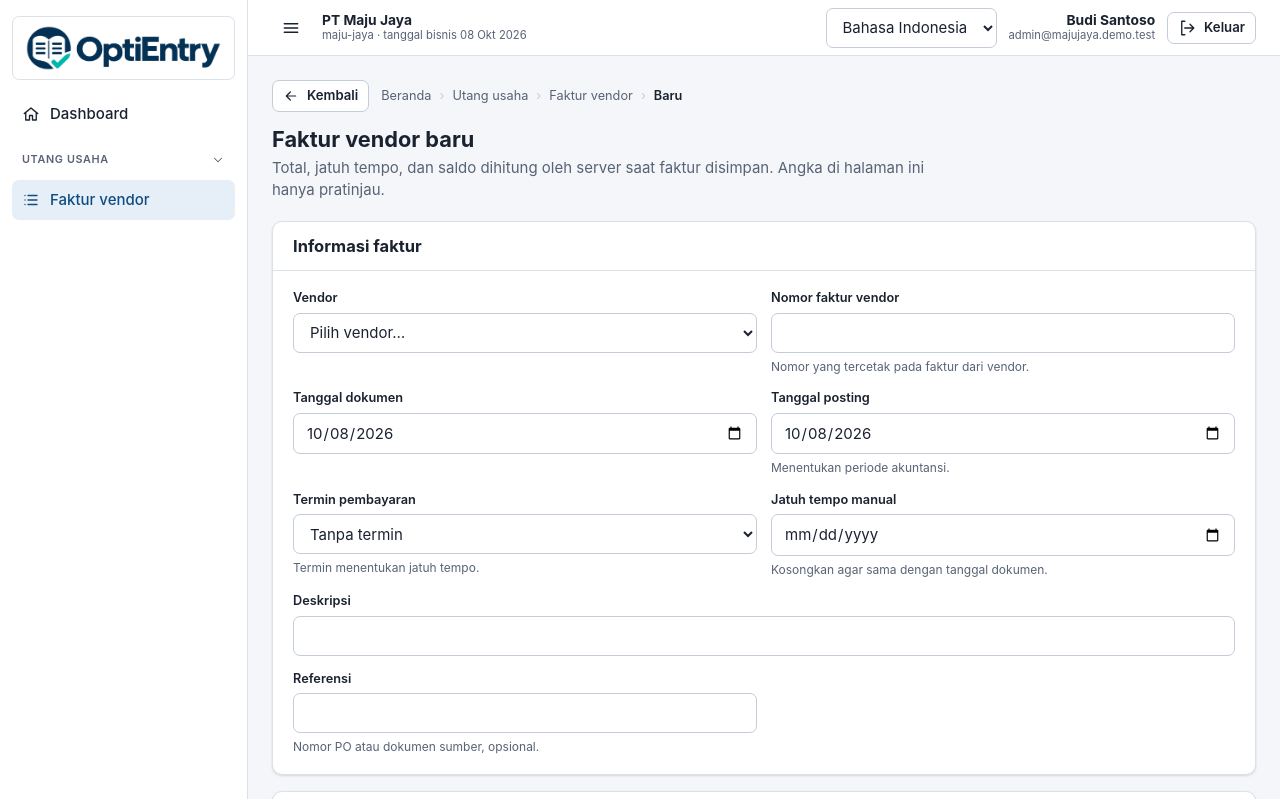
Test case: vendor invoice editor and currencies › keeps the payload of a functional invoice unchanged when the tenant has no multi-currency module
The image size is (1280, 799).
Expected: the heading "Faktur vendor baru" is shown, [272, 126, 474, 152]
Select "V1 · PT Sumber Makmur" in the dropdown labelled "Vendor" at (525, 333), box [293, 313, 757, 353]
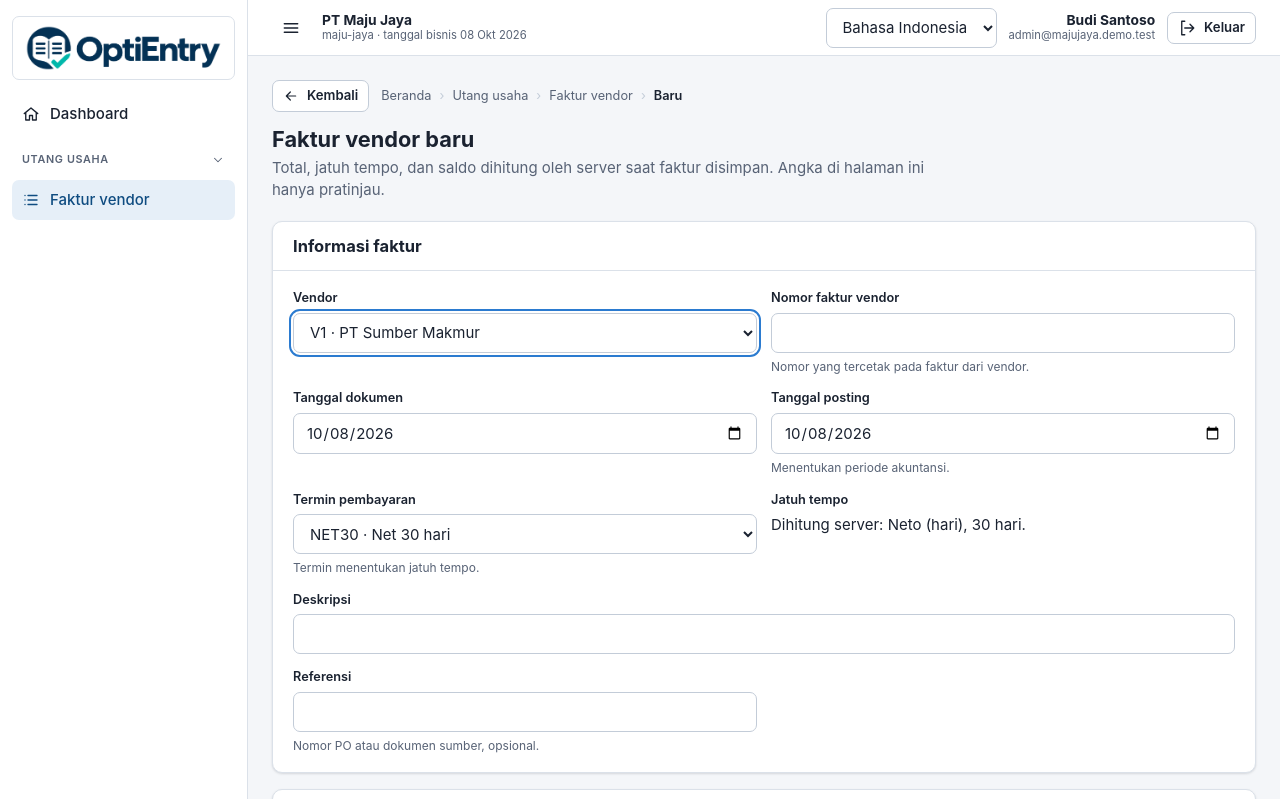
Type "FP-200" into the field labelled "Nomor faktur vendor" at (1003, 333), box [771, 313, 1235, 353]
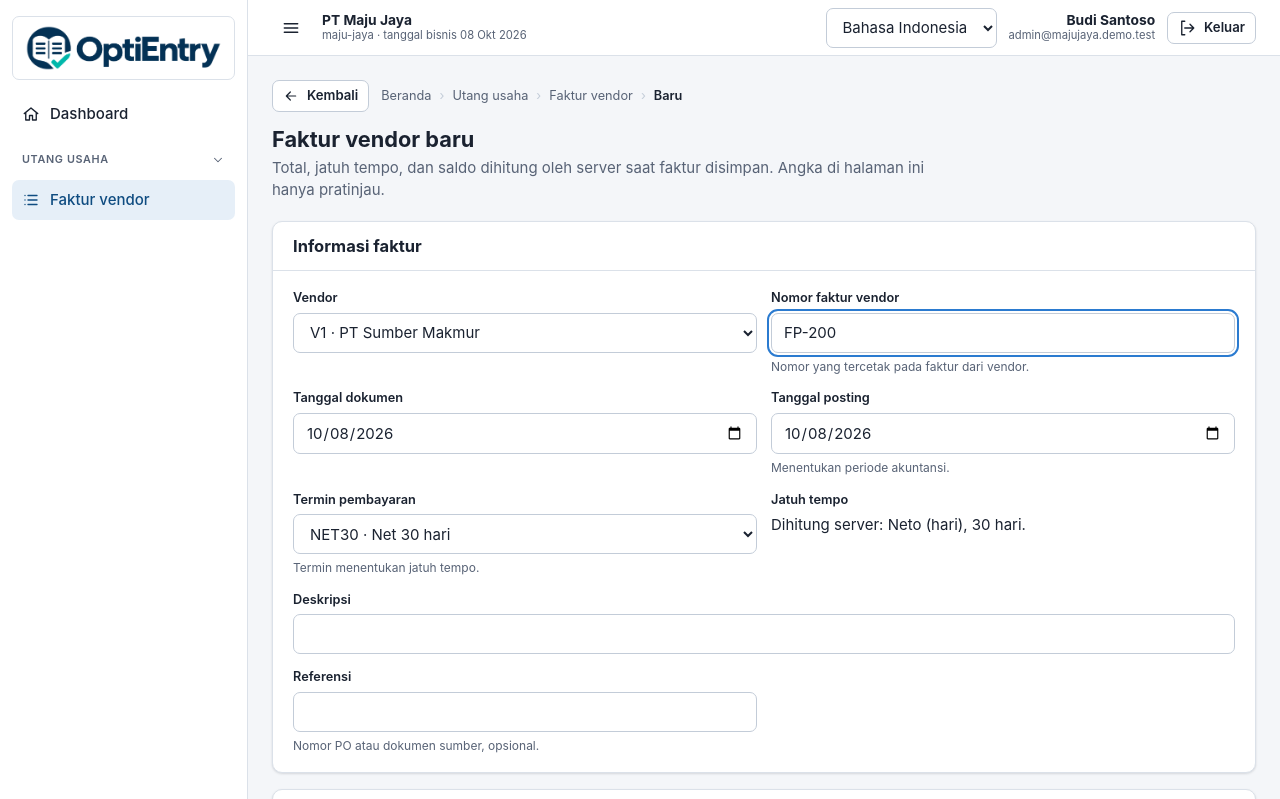
Type "Jasa konsultasi" into the field labelled "Deskripsi" at (764, 634), box [293, 614, 1235, 654]
(page scrolled)
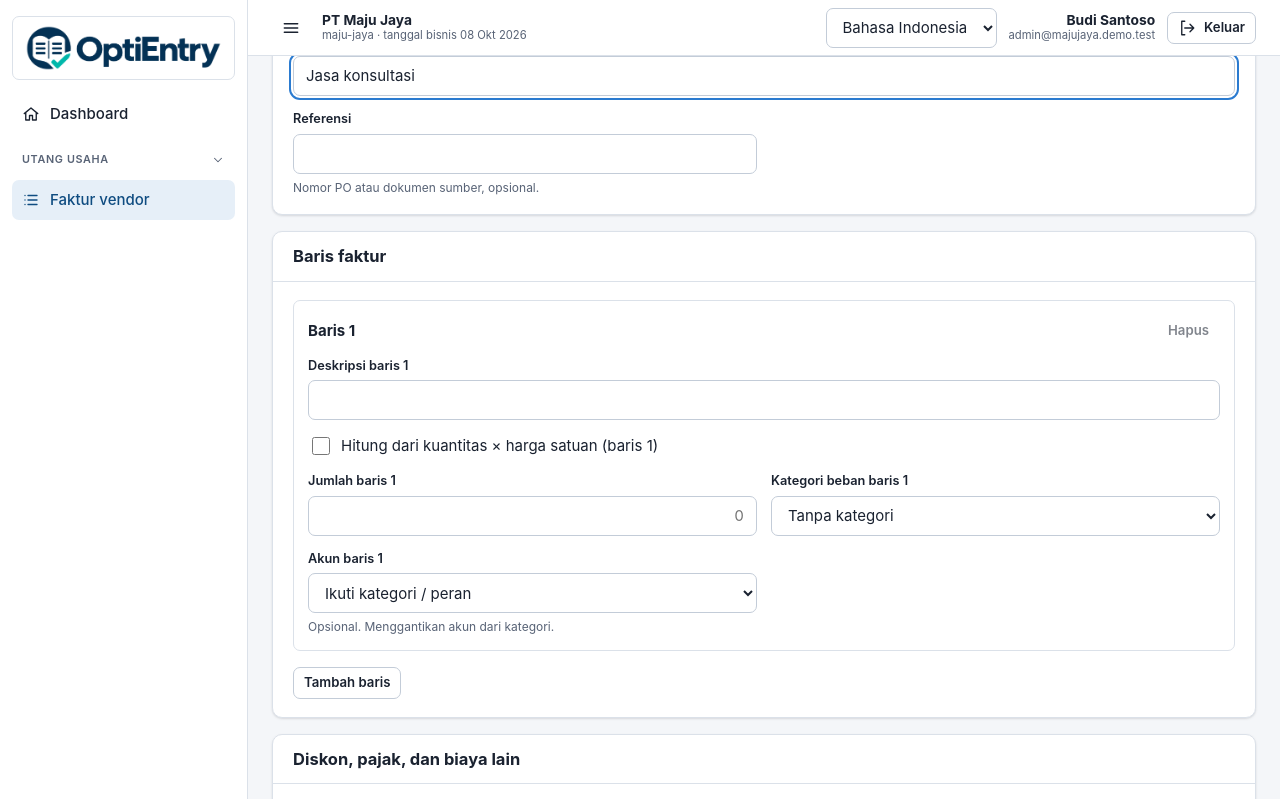
Type "Konsultasi" into the field labelled "Deskripsi baris 1" at (764, 400), box [308, 380, 1220, 420]
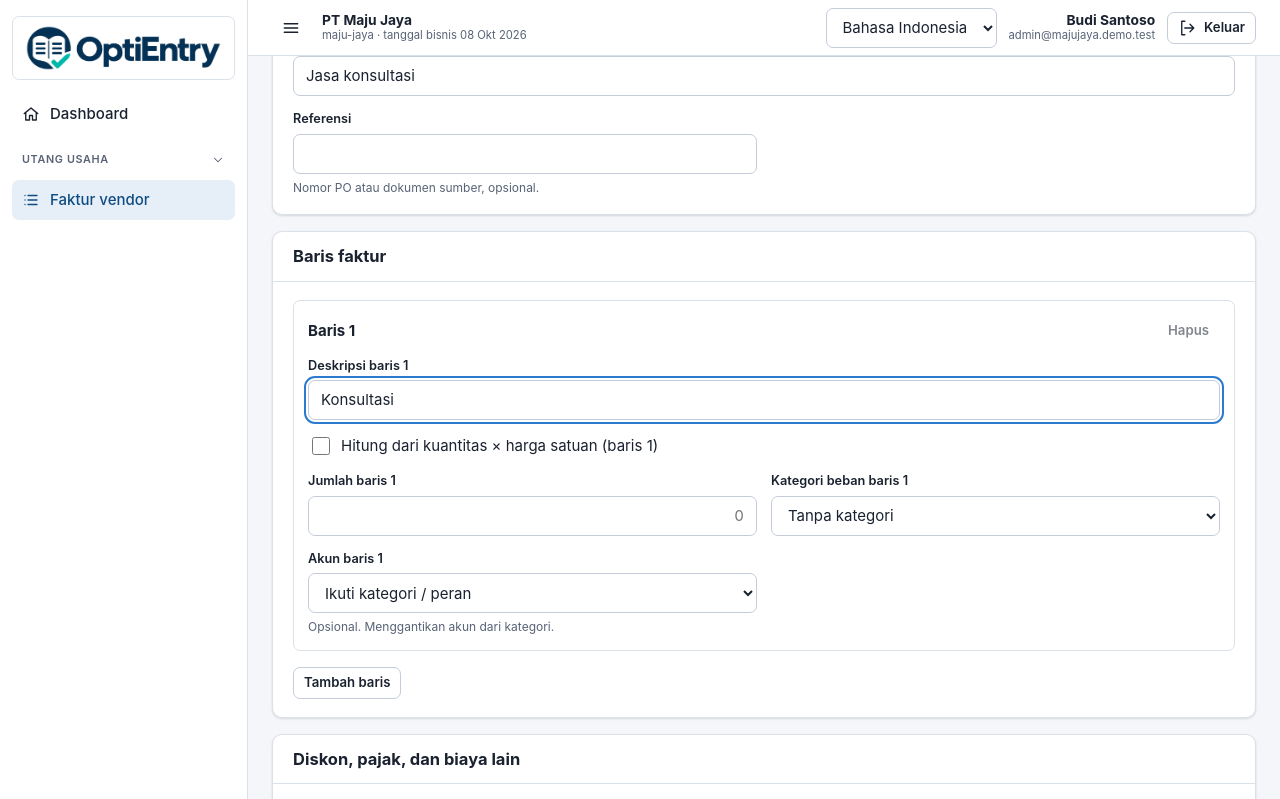
Type "1000000" into the field labelled "Jumlah baris 1" at (532, 516), box [308, 496, 757, 536]
(page scrolled)
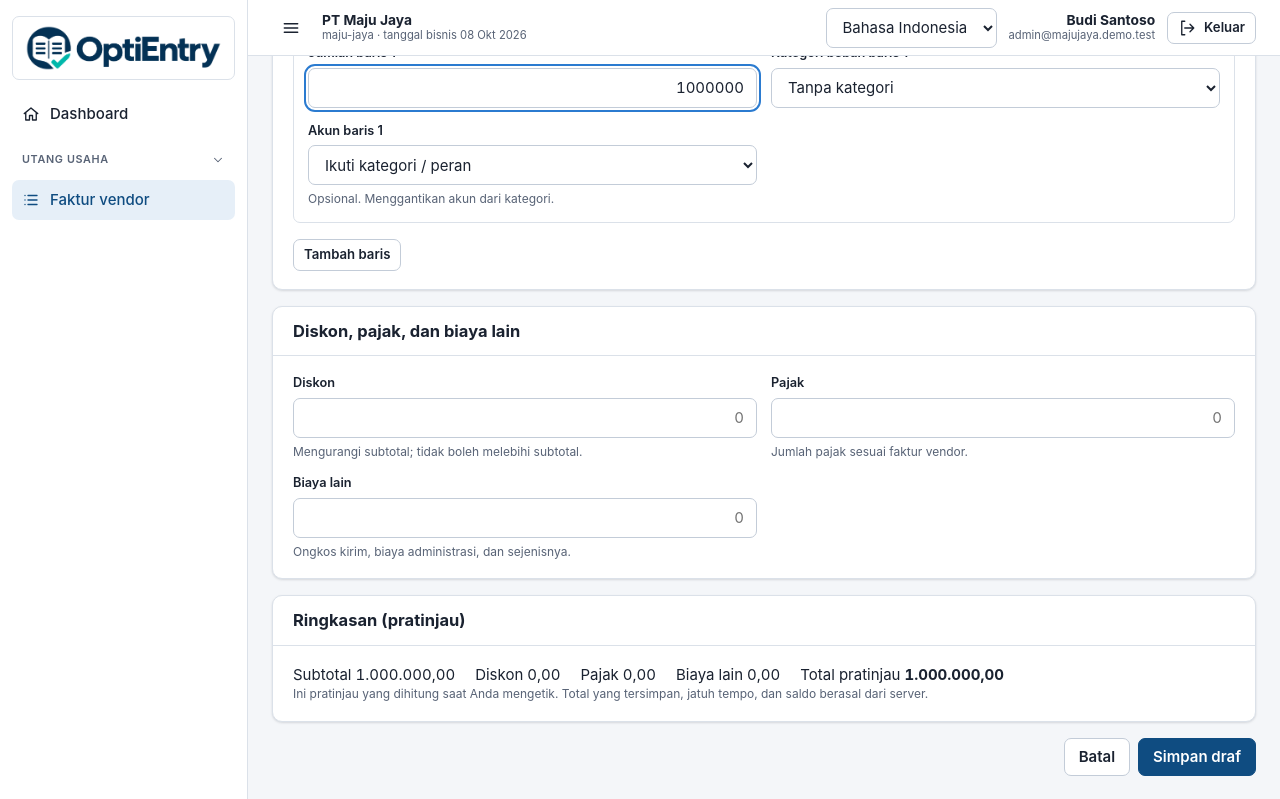
Expected: the field labelled "Mata uang" is not shown
Click the button "Simpan draf" at (1197, 757), box [1138, 738, 1256, 776]
(page scrolled)
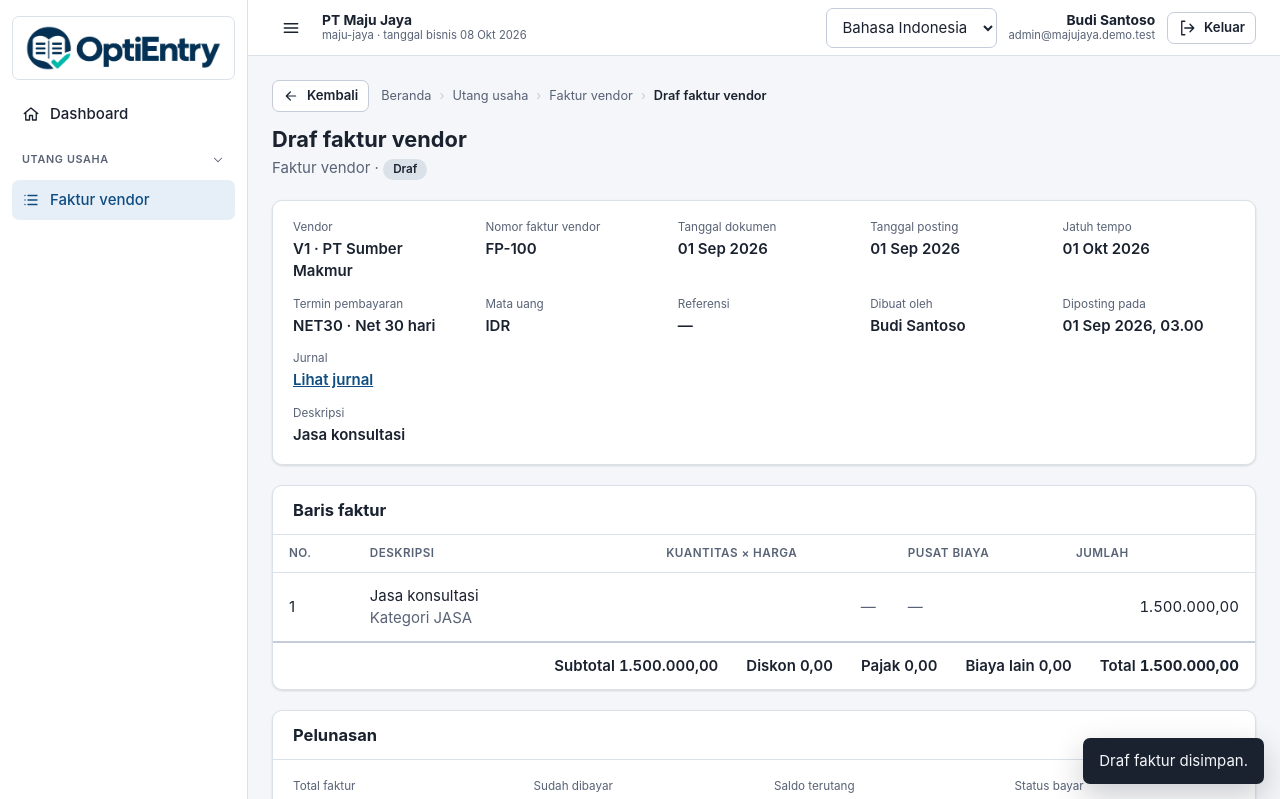
Expected: the heading "Draf faktur vendor" is shown, [272, 126, 467, 153]
